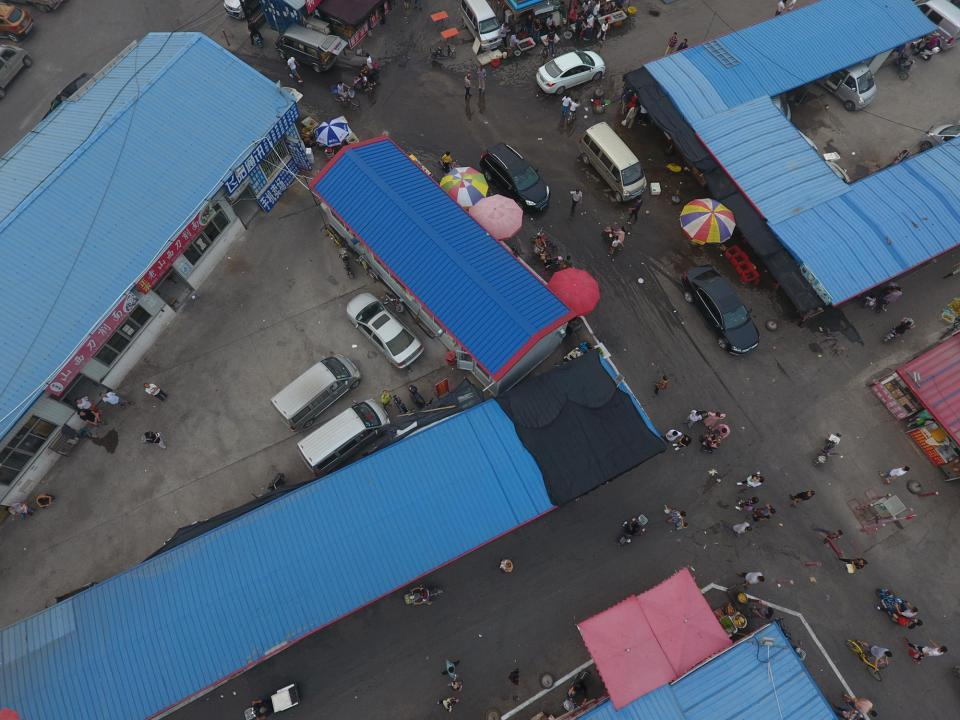car: (681, 263, 760, 355), (345, 291, 424, 368), (480, 141, 551, 210), (535, 49, 606, 95), (0, 3, 35, 41)
truck: (0, 0, 63, 13)
van: (295, 397, 391, 477), (270, 354, 362, 432), (579, 122, 647, 202), (807, 57, 878, 112), (274, 22, 346, 72), (906, 0, 958, 50), (757, 125, 819, 162), (459, 0, 504, 49), (732, 90, 792, 126), (0, 44, 32, 96), (797, 160, 850, 190), (922, 122, 960, 160), (224, 0, 266, 19)
